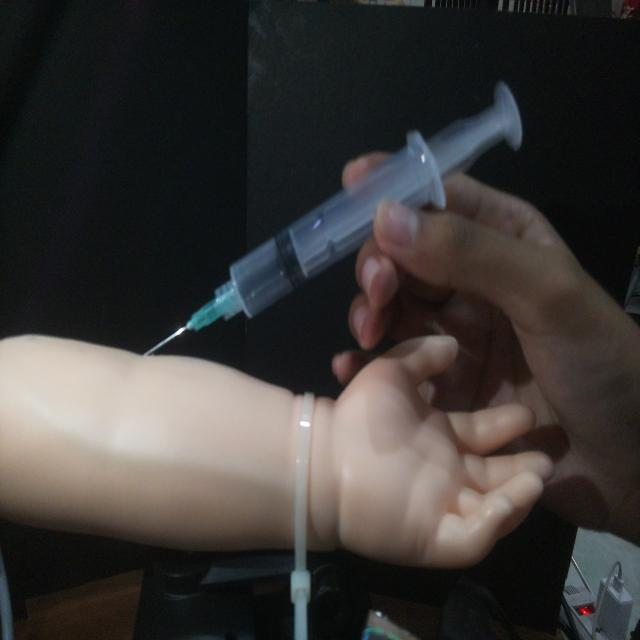29deg: (138, 76, 527, 360)
